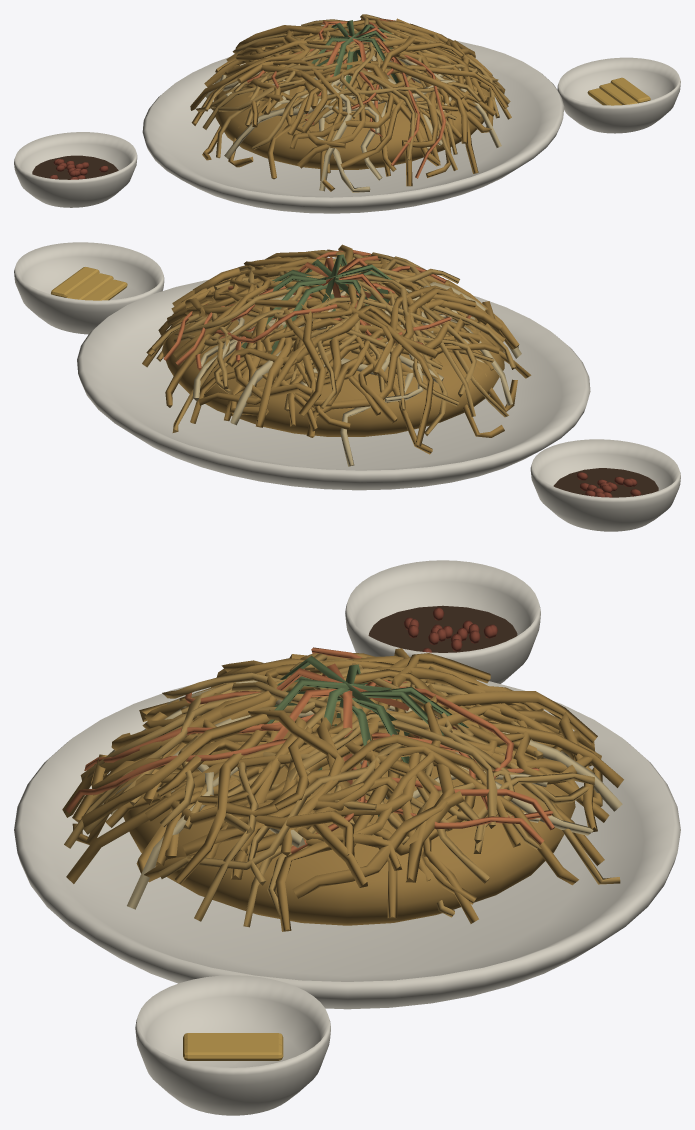
File: noodles.glb
3 views of the same model, one above another, from view 1: azimuth 30°, elevation 25°; view 2: azimuth 150°, elevation 25°; view 3: azimuth 270°, elevation 25° (orthographic). The views are drawn at different scales.
Parts seen in each view (by area): view 1: Tianjin_noodles; view 2: Tianjin_noodles; view 3: Tianjin_noodles.
Boxes of the visible parts, x1,y1,x2,y2 form: Tianjin_noodles: (14, 14, 680, 213); Tianjin_noodles: (14, 242, 680, 531); Tianjin_noodles: (14, 560, 680, 1115).
Size of the model in its own units: 0.517 by 0.1006 by 0.286.
